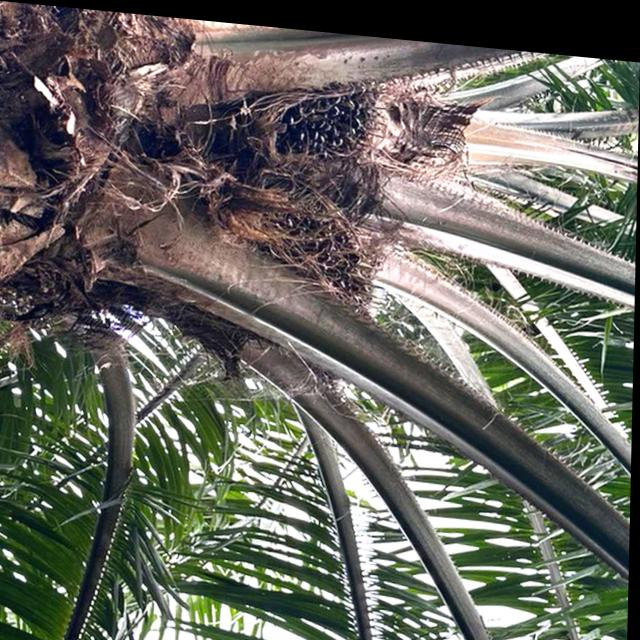ripe: (226, 171, 388, 300), (264, 74, 389, 154)
